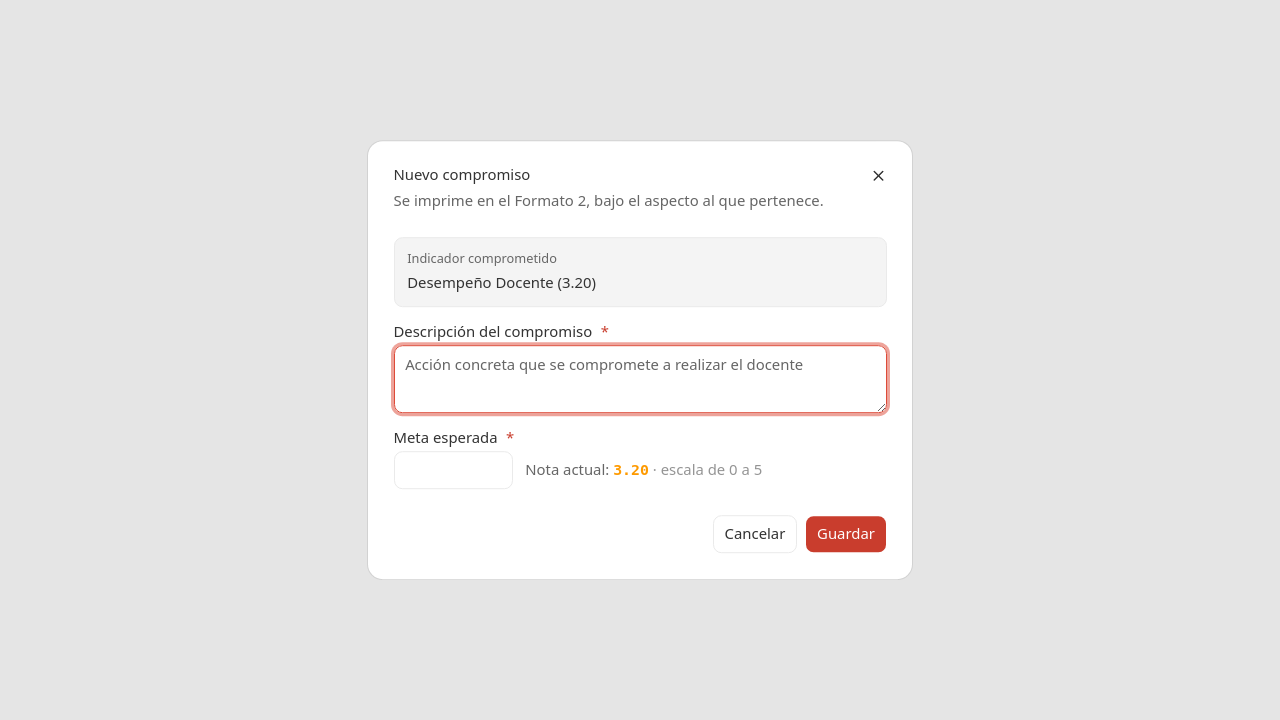
Test case: CommitmentDialog › refuses to save a commitment that is still missing something
Click the button "Guardar": (846, 534) [806, 515, 886, 553]
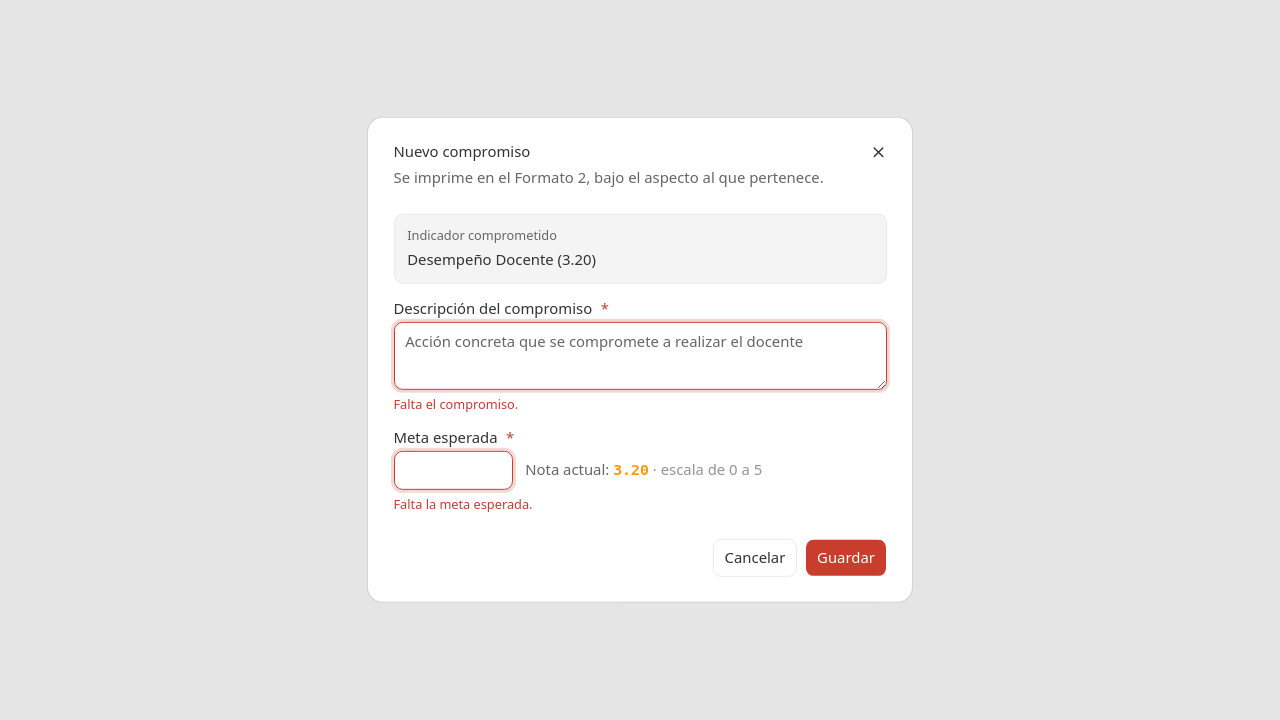
Result: the text "Falta el compromiso." is shown at [394, 395, 518, 413]
Result: the text "Falta la meta esperada." is shown at [394, 495, 532, 513]
